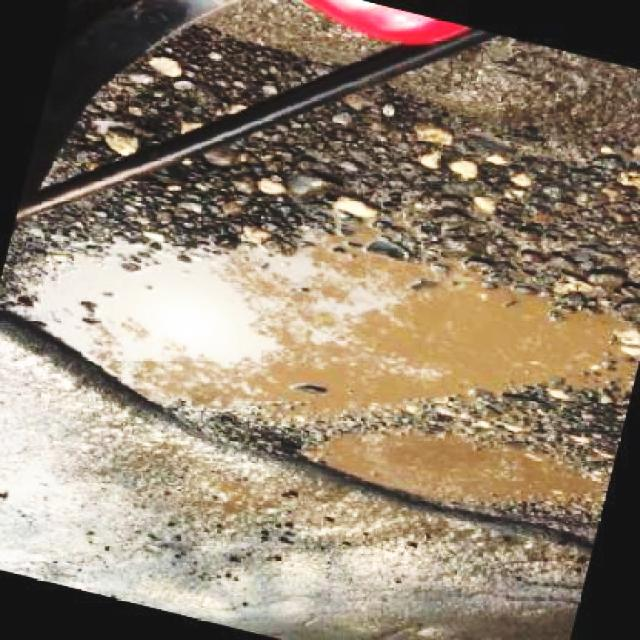pothole: (4, 218, 640, 424), (277, 426, 621, 537)
